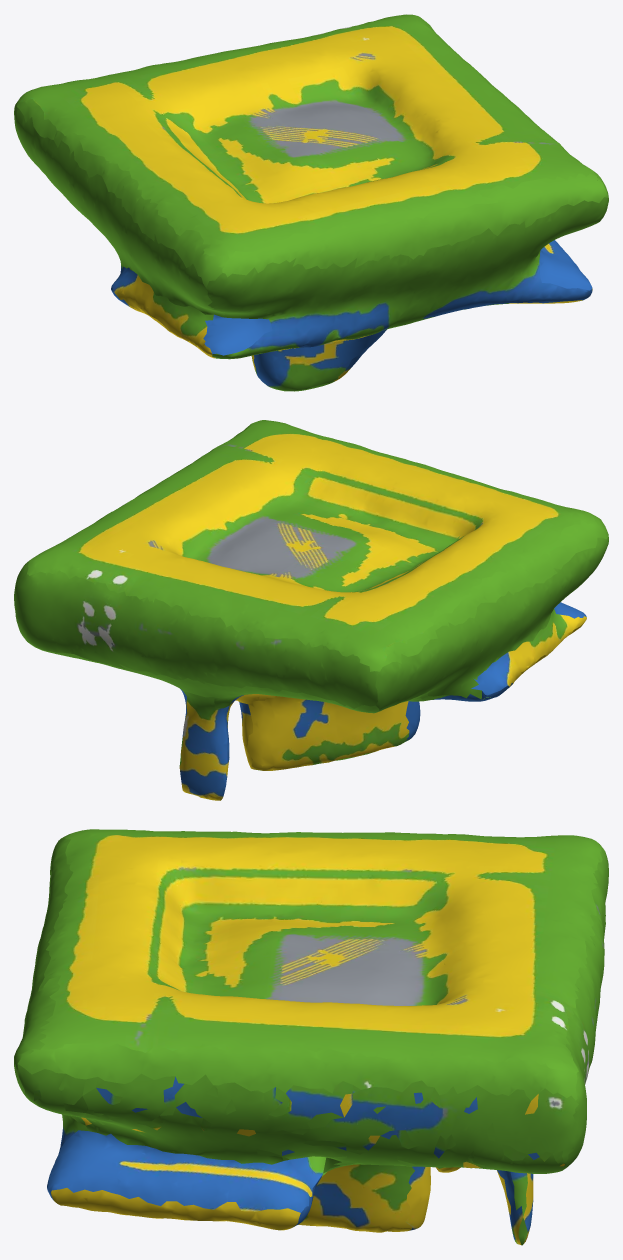
File: trampoline-2.glb
The picture shows the model from 3 angles, top to bottom: view 1: azimuth 30°, elevation 25°; view 2: azimuth 150°, elevation 25°; view 3: azimuth 270°, elevation 25°; orthographic projection. The views are drawn at different scales.
Parts seen in each view (by area): view 1: geometry_0; view 2: geometry_0; view 3: geometry_0.
Boxes of the visible parts, <box> form: geometry_0: <box>14,14,608,391</box>; geometry_0: <box>14,420,608,800</box>; geometry_0: <box>14,829,608,1245</box>.
Size of the model in its own units: 1.05 by 0.5411 by 1.03.
1 material, 1 textured.
